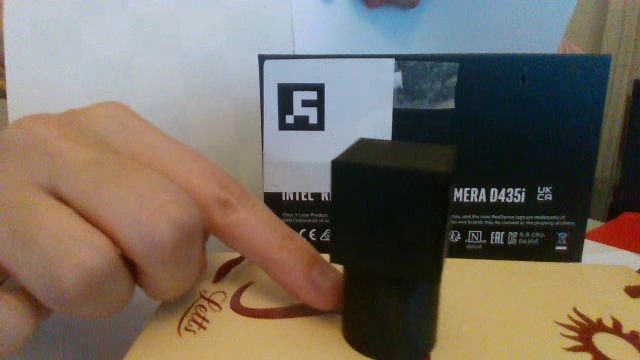cube: (322, 125, 464, 283)
cylindre: (335, 247, 462, 360)
